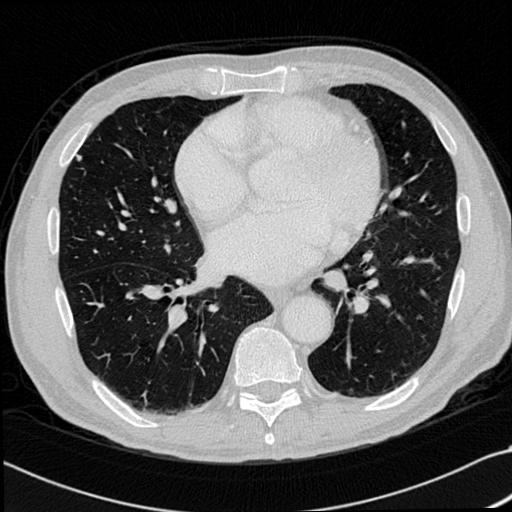nodule: (74, 152, 84, 162)
